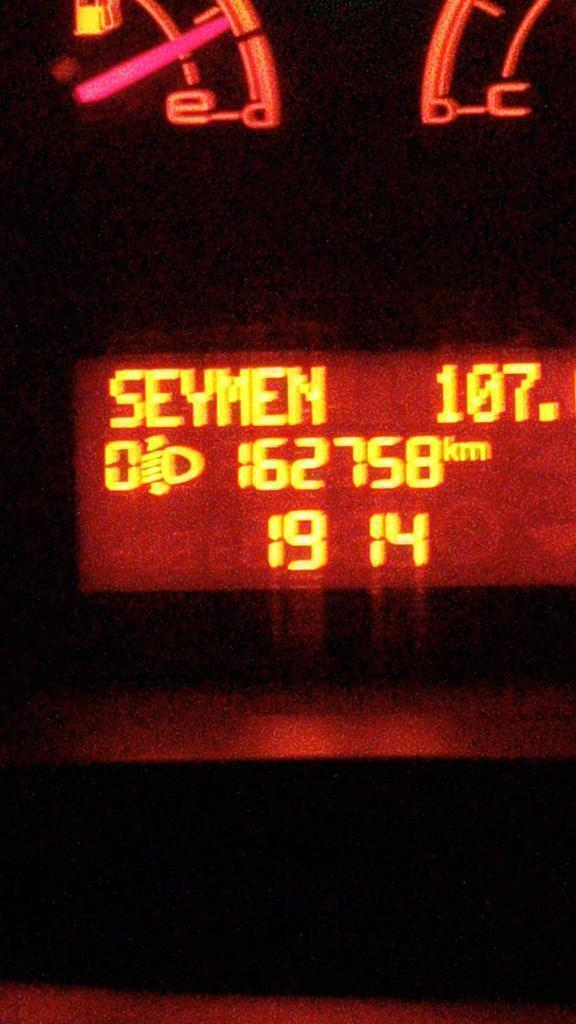,: (534, 399, 561, 423)
0: (464, 360, 502, 427), (102, 438, 141, 492)
1: (434, 361, 464, 427), (365, 511, 386, 568), (265, 512, 285, 570), (234, 437, 251, 493)
2: (292, 435, 330, 492)
4: (386, 510, 430, 568)
5: (368, 435, 404, 491)
6: (252, 435, 289, 492)
7: (503, 362, 541, 423), (331, 436, 365, 488)
8: (406, 434, 441, 491)
9: (287, 508, 326, 571)
X: (287, 365, 325, 425), (143, 367, 179, 428), (214, 367, 250, 427), (251, 367, 286, 427), (179, 368, 213, 427), (110, 368, 143, 428), (459, 440, 491, 462), (442, 435, 458, 462)
odometer: (67, 350, 575, 593)
